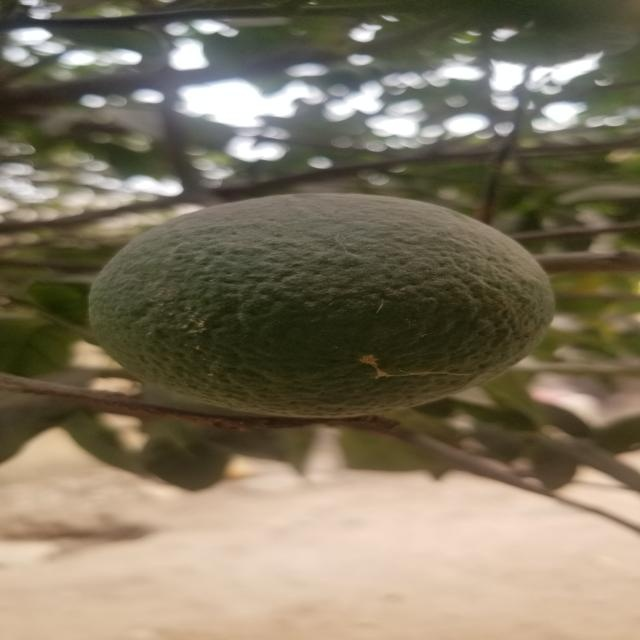agrume: (82, 191, 549, 413)
